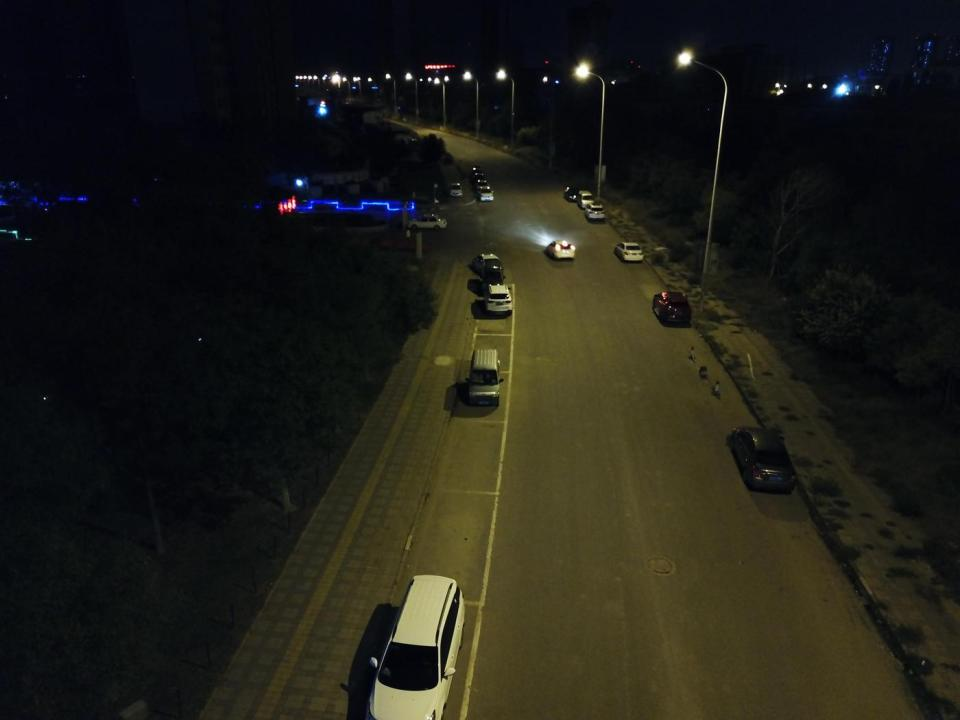car: (363, 572, 466, 720), (728, 425, 798, 494), (652, 289, 694, 326), (481, 278, 518, 316), (613, 239, 646, 265), (405, 214, 449, 231), (480, 260, 507, 286), (474, 250, 502, 272), (546, 239, 576, 259), (584, 200, 606, 224), (563, 185, 584, 203), (478, 185, 494, 204), (448, 182, 463, 198), (469, 166, 483, 180), (470, 172, 485, 185), (475, 180, 490, 191)
van: (467, 348, 505, 404), (578, 190, 595, 208)
